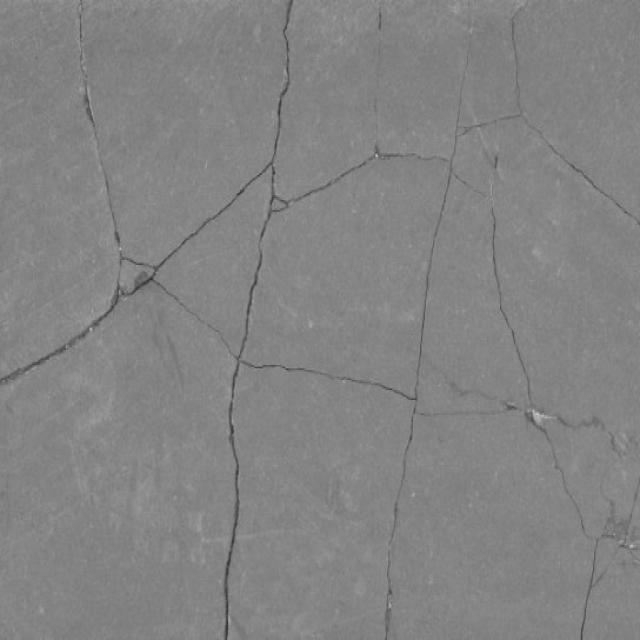SurfaceCrack: (4, 7, 408, 638)
